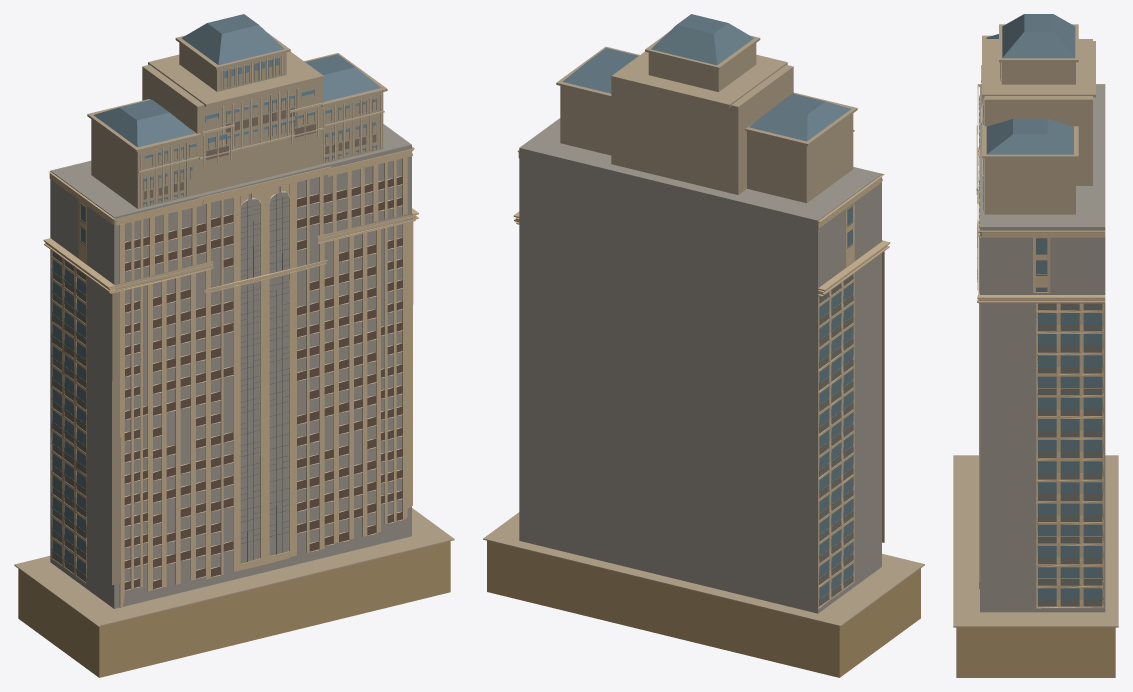
File: light.glb
3 renders of one model, left to right at view 1: azimuth 30°, elevation 25°; view 2: azimuth 150°, elevation 25°; view 3: azimuth 270°, elevation 25°, orthographic. The views are drawn at different scales.
Parts seen in each view (by area): view 1: I_DISPLAY_exact_original_four_faces, J_right_upper_window_and_exact_lower, F_KEEP_WEB_F_APPROX_crown_envelope_stone, F_KEEP_WEB_F_UNKNOWN_lower_mass, F_KEEP_WEB_brown, F_KEEP_WEB_F_ASSUMED_blue_gray_roof_planes, G_CROWN_PIER_APPROX, F_KEEP_WEB_frame, G_THIN_FIXED_BORDER, F_KEEP_WEB_stone_return, G_VISIBLE_BROWN_SPANDREL, G_VISIBLE_BLUE_SUBFIELD; view 2: I_DISPLAY_exact_original_four_faces, F_KEEP_WEB_F_APPROX_crown_envelope_stone, F_KEEP_WEB_F_UNKNOWN_lower_mass, J_right_upper_window_and_exact_lower, F_KEEP_WEB_F_ASSUMED_blue_gray_roof_planes, F_KEEP_WEB_stone_return; view 3: I_DISPLAY_exact_original_four_faces, J_right_upper_window_and_exact_lower, F_KEEP_WEB_F_APPROX_crown_envelope_stone, F_KEEP_WEB_F_UNKNOWN_lower_mass, F_KEEP_WEB_F_ASSUMED_blue_gray_roof_planes.
Part boxes in pixels (x1,y1,x2,y2): I_DISPLAY_exact_original_four_faces: (50, 124, 411, 608); J_right_upper_window_and_exact_lower: (43, 146, 418, 607); F_KEEP_WEB_F_APPROX_crown_envelope_stone: (14, 32, 454, 626); F_KEEP_WEB_F_UNKNOWN_lower_mass: (18, 541, 450, 677); F_KEEP_WEB_brown: (124, 176, 402, 590); F_KEEP_WEB_F_ASSUMED_blue_gray_roof_planes: (93, 14, 380, 147); G_CROWN_PIER_APPROX: (138, 55, 384, 207); F_KEEP_WEB_frame: (240, 194, 289, 561); G_THIN_FIXED_BORDER: (143, 57, 376, 206); F_KEEP_WEB_stone_return: (111, 292, 119, 585); G_VISIBLE_BROWN_SPANDREL: (143, 107, 376, 199); G_VISIBLE_BLUE_SUBFIELD: (144, 58, 375, 203); I_DISPLAY_exact_original_four_faces: (519, 118, 881, 613); F_KEEP_WEB_F_APPROX_crown_envelope_stone: (483, 33, 924, 626); F_KEEP_WEB_F_UNKNOWN_lower_mass: (487, 540, 920, 677); J_right_upper_window_and_exact_lower: (513, 150, 890, 608); F_KEEP_WEB_F_ASSUMED_blue_gray_roof_planes: (562, 14, 850, 141); F_KEEP_WEB_stone_return: (882, 251, 884, 542); I_DISPLAY_exact_original_four_faces: (980, 84, 1105, 612); J_right_upper_window_and_exact_lower: (976, 84, 1105, 608); F_KEEP_WEB_F_APPROX_crown_envelope_stone: (953, 24, 1118, 627); F_KEEP_WEB_F_UNKNOWN_lower_mass: (956, 627, 1115, 677); F_KEEP_WEB_F_ASSUMED_blue_gray_roof_planes: (986, 14, 1075, 154).
Bounding box in the file's own units: 71 × 110 × 29.
